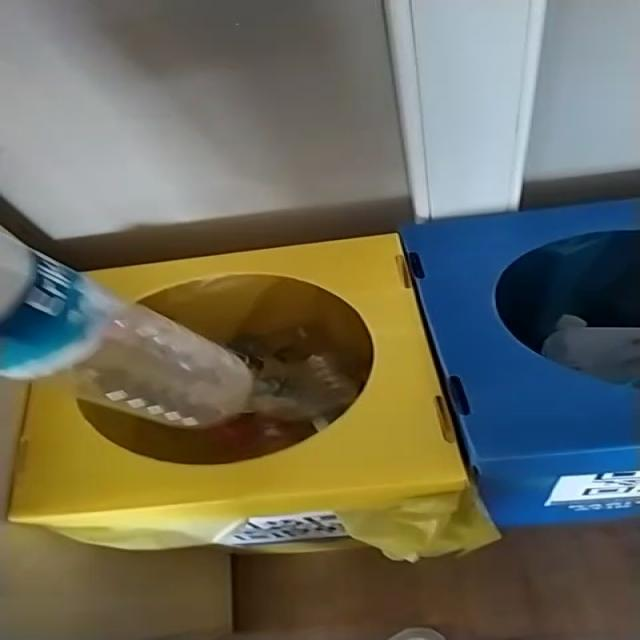plastic: (1, 233, 253, 429)
